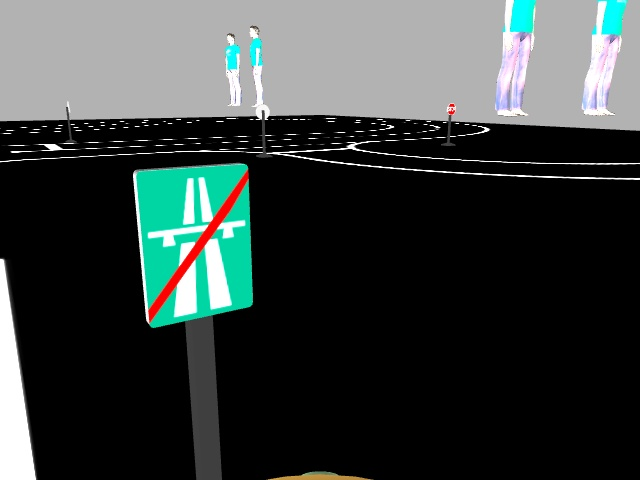HighwayExit: (140, 164, 247, 327)
